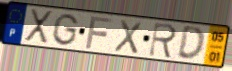D: (175, 26, 206, 63)
F: (84, 15, 115, 51)
G: (50, 12, 80, 47)
R: (147, 22, 179, 61)
X: (112, 18, 144, 56), (23, 7, 54, 46)
